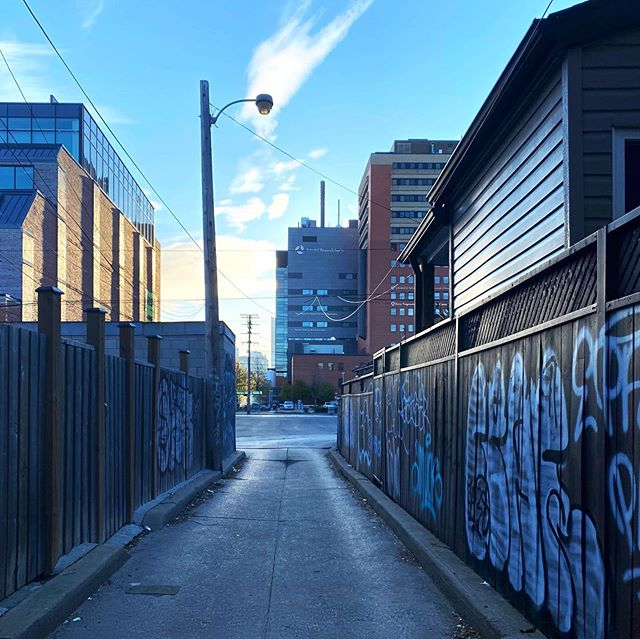building: (417, 1, 640, 326), (1, 106, 174, 314), (359, 145, 449, 348), (266, 221, 359, 393)
graffiti: (465, 312, 640, 639), (358, 375, 449, 521), (152, 373, 199, 489)
light pole: (191, 83, 275, 371)
sky: (56, 1, 522, 130)
